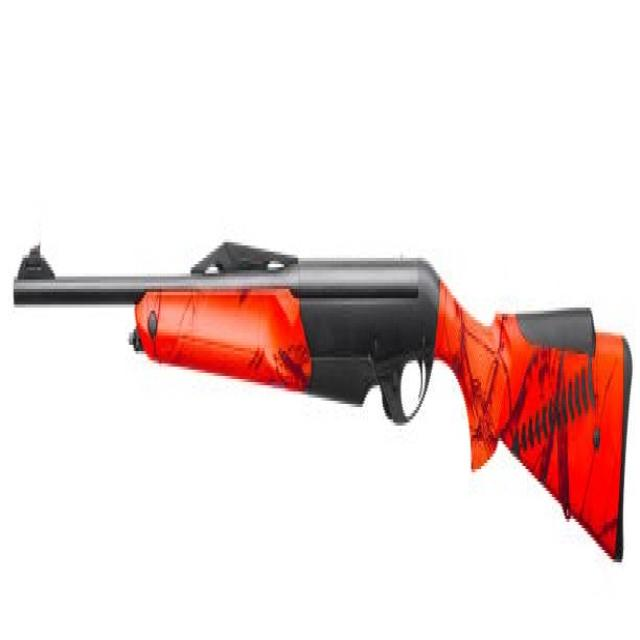rifle: (11, 237, 634, 580)
